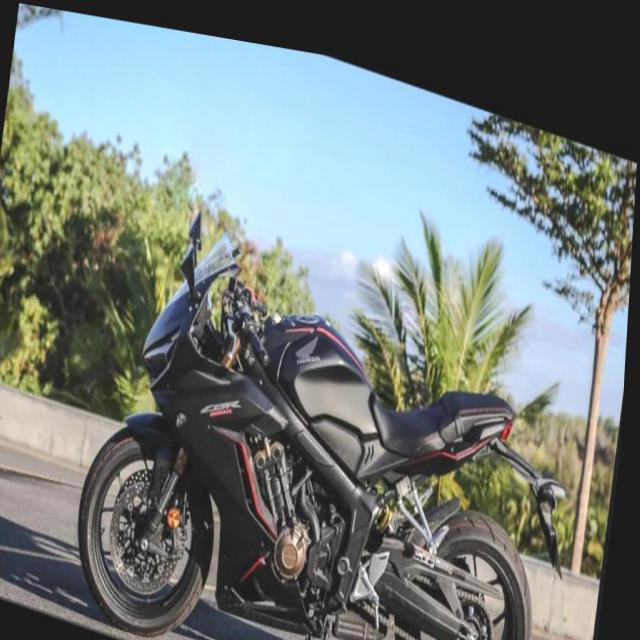CBR650R: (68, 171, 598, 639)
